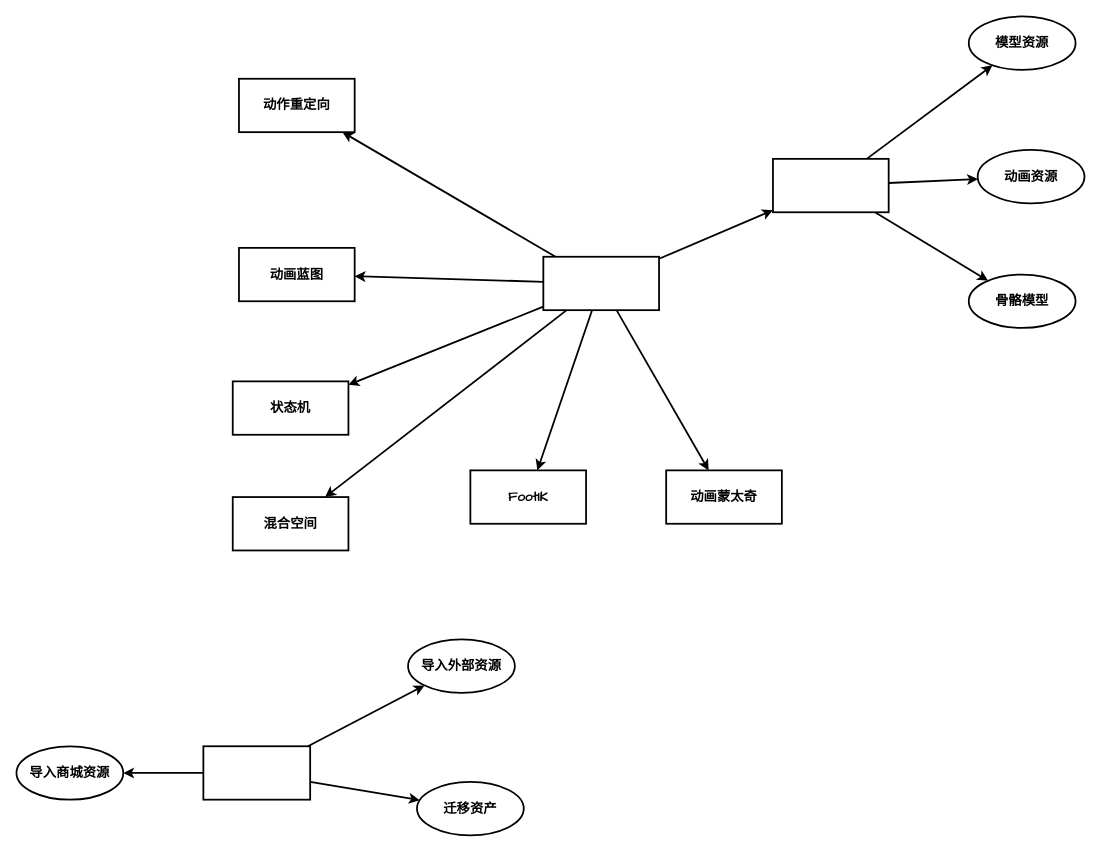
Some shapes in this 1100 by 851 pixel diagram are drawn without their labels. Here are the shapes that lost their labels. From the top down, the centre of each, then its label:
At (830,185): "资源".
At (600,283): "动画系统".
At (256,772): "资源导入".
